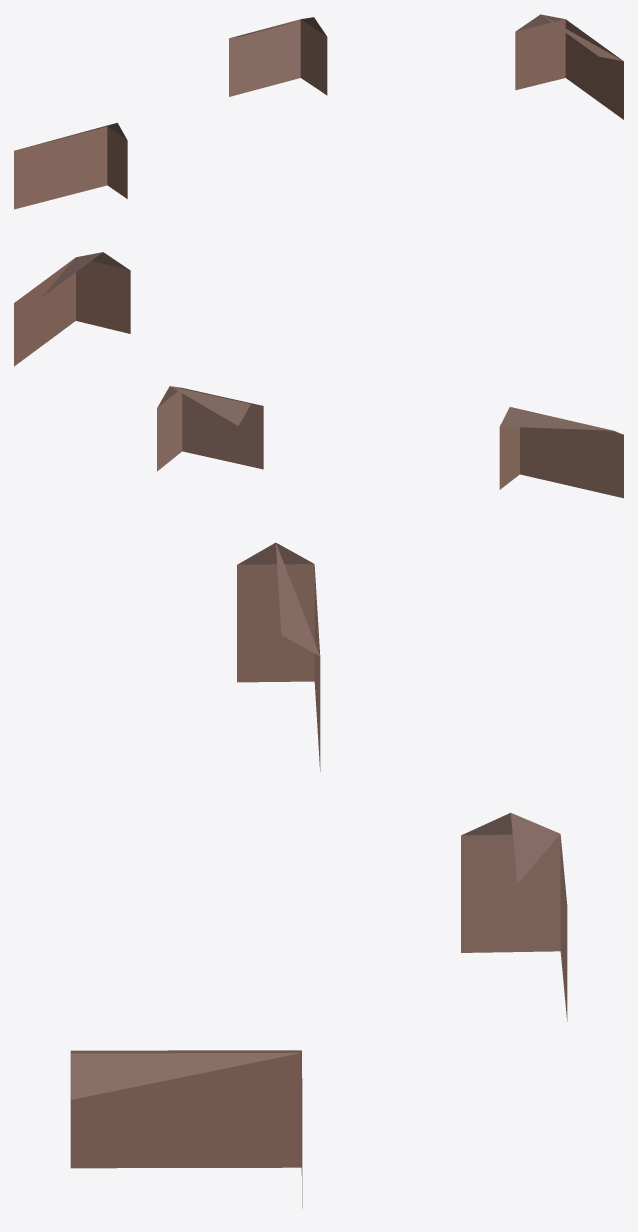
File: c_1638_17831_buildings_residential.glb
3 renders of one model, top to bottom at view 1: azimuth 30°, elevation 25°; view 2: azimuth 150°, elevation 25°; view 3: azimuth 270°, elevation 25°, orthographic. The views are drawn at different scales.
Parts seen in each view (by area): view 1: geometry_0; view 2: geometry_0; view 3: geometry_0.
Part boxes in pixels (x1,y1,x2,y2): geometry_0: (14,14,623,209); geometry_0: (14,252,623,498); geometry_0: (70,542,567,1208).
Size of the model in its own units: 87.99 by 10.68 by 34.46.
